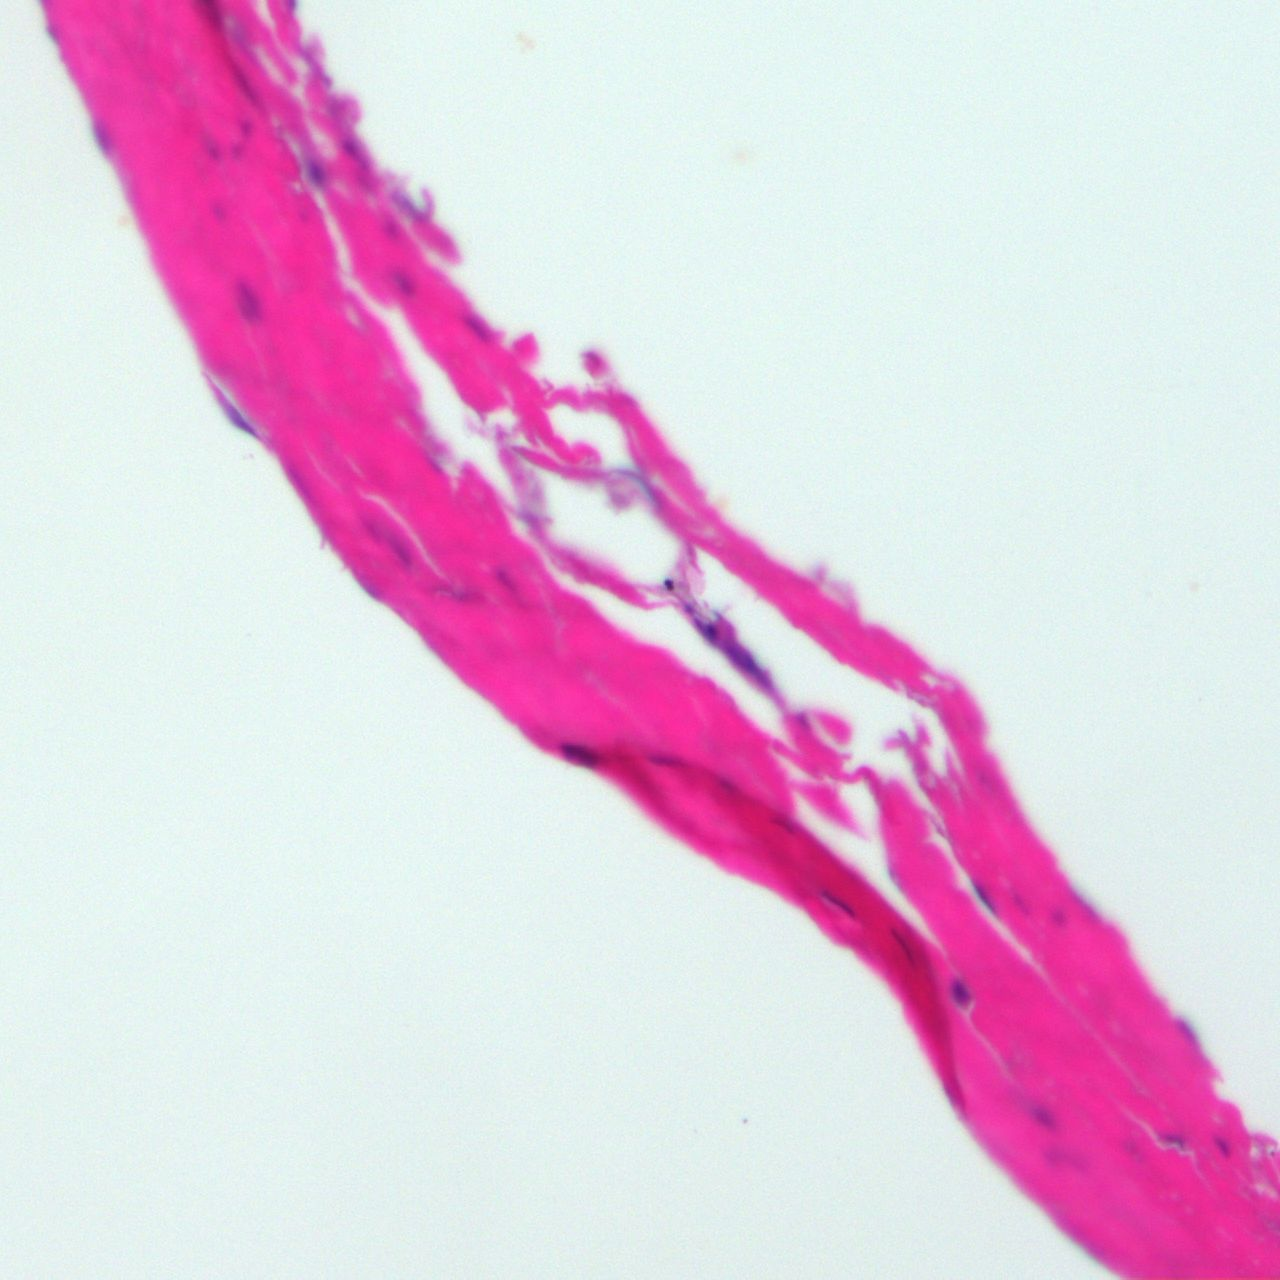dust: (663, 578, 673, 591)
nucleus-HE: (366, 520, 417, 570), (1020, 1092, 1063, 1137), (727, 639, 768, 682), (818, 884, 862, 922), (236, 275, 261, 324), (86, 116, 115, 156), (559, 738, 600, 765), (968, 879, 998, 915), (693, 613, 722, 644), (302, 151, 325, 186), (1210, 1131, 1234, 1160), (949, 975, 971, 1009), (393, 270, 413, 298), (342, 132, 359, 158), (1160, 1132, 1183, 1148), (1049, 907, 1064, 927)
